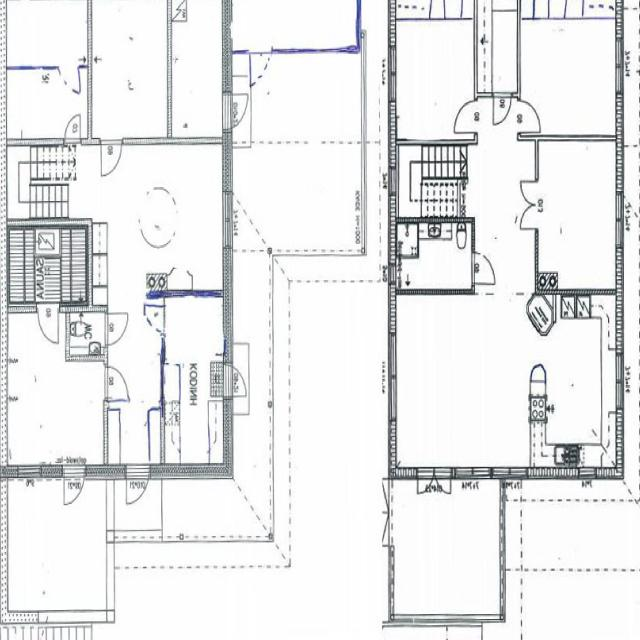door: (226, 93, 258, 129), (130, 461, 152, 509), (68, 461, 88, 506), (226, 364, 255, 394), (107, 365, 133, 398), (253, 46, 274, 85), (108, 312, 132, 343), (105, 137, 125, 174), (472, 252, 495, 284), (518, 100, 541, 132), (43, 303, 62, 340), (455, 101, 477, 132), (63, 65, 82, 99), (418, 467, 435, 504), (435, 467, 451, 504), (494, 92, 511, 124), (148, 304, 168, 329), (69, 113, 84, 143), (520, 205, 538, 229), (520, 182, 538, 205)
